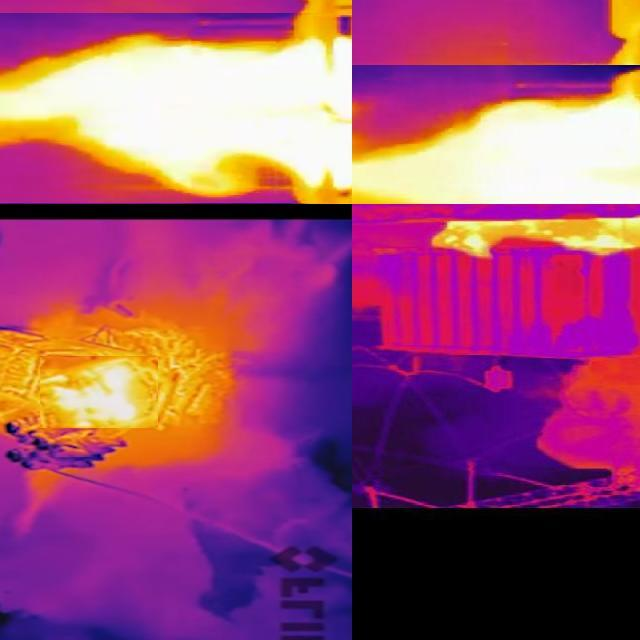fire: (1, 14, 353, 204), (353, 66, 640, 205), (410, 214, 640, 268), (40, 357, 158, 429)
